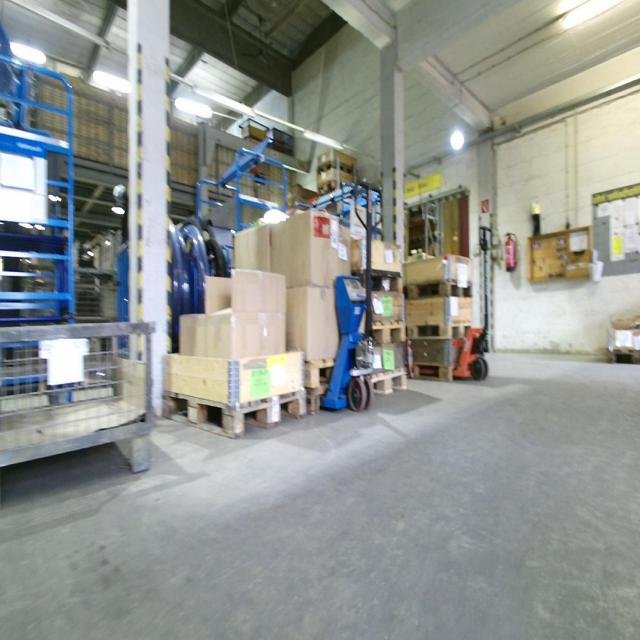pallet: (160, 381, 309, 434), (401, 278, 478, 308), (347, 265, 403, 296), (367, 363, 408, 402), (406, 360, 474, 382), (300, 356, 344, 390), (401, 321, 475, 338), (367, 320, 405, 353), (310, 386, 339, 411), (608, 347, 638, 367)
pallet_truck: (320, 176, 386, 413), (411, 221, 498, 387)
stillage: (1, 317, 160, 498)
